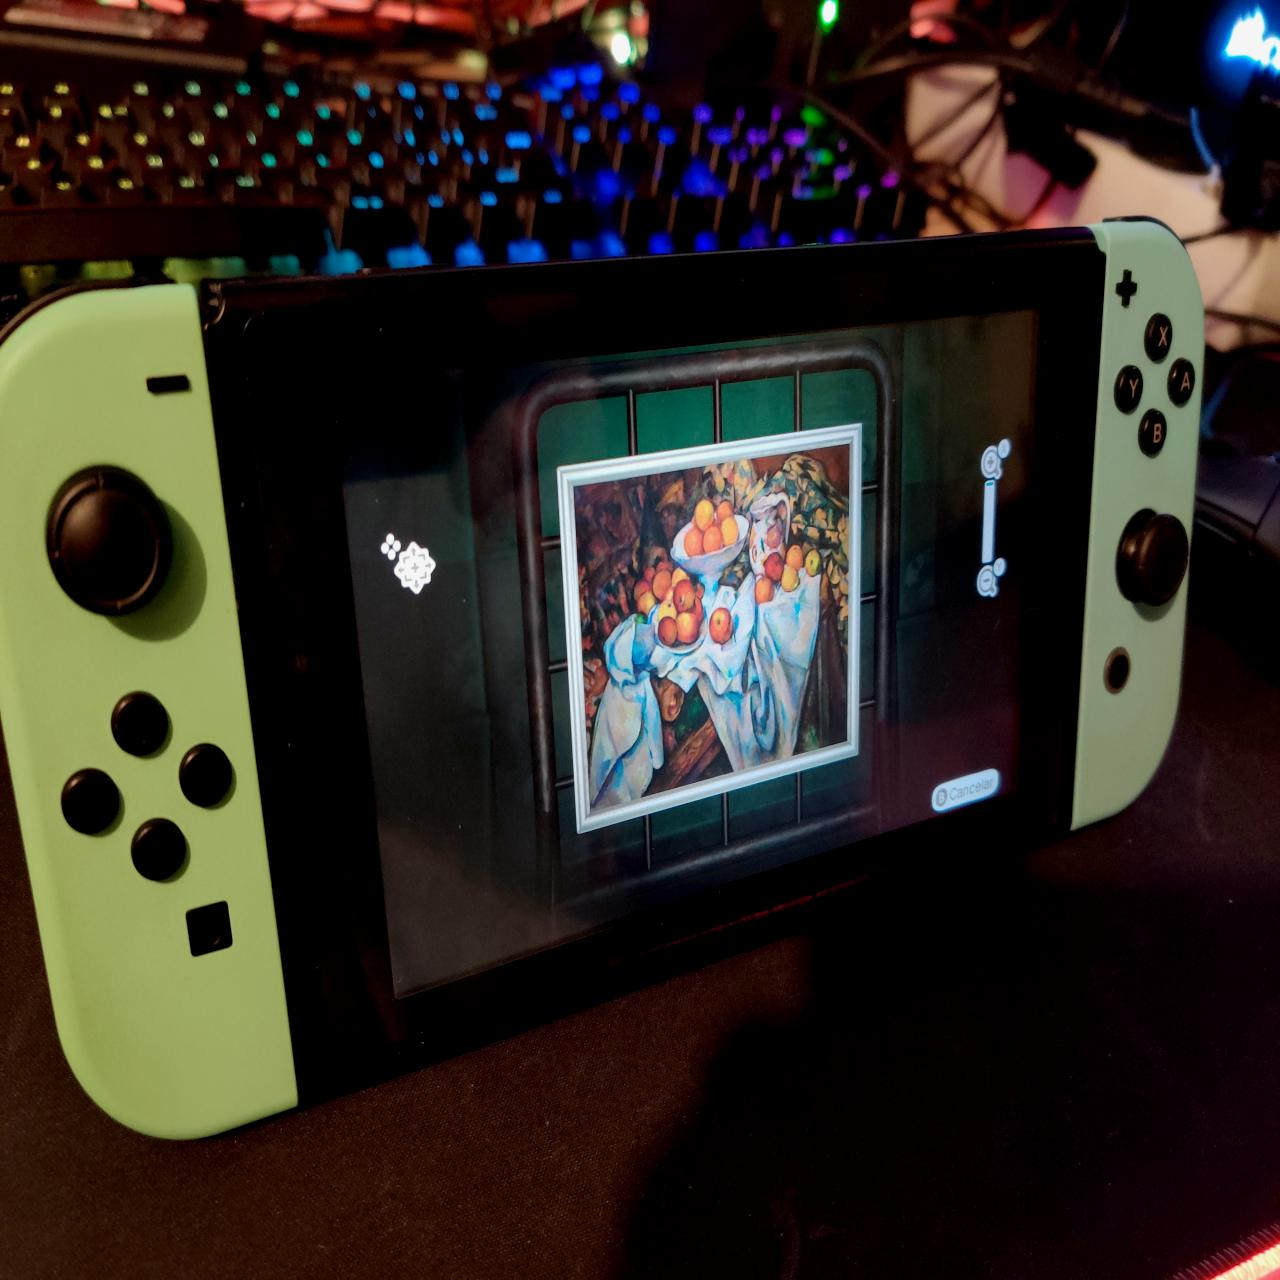AppleOrange: (577, 438, 846, 819)
